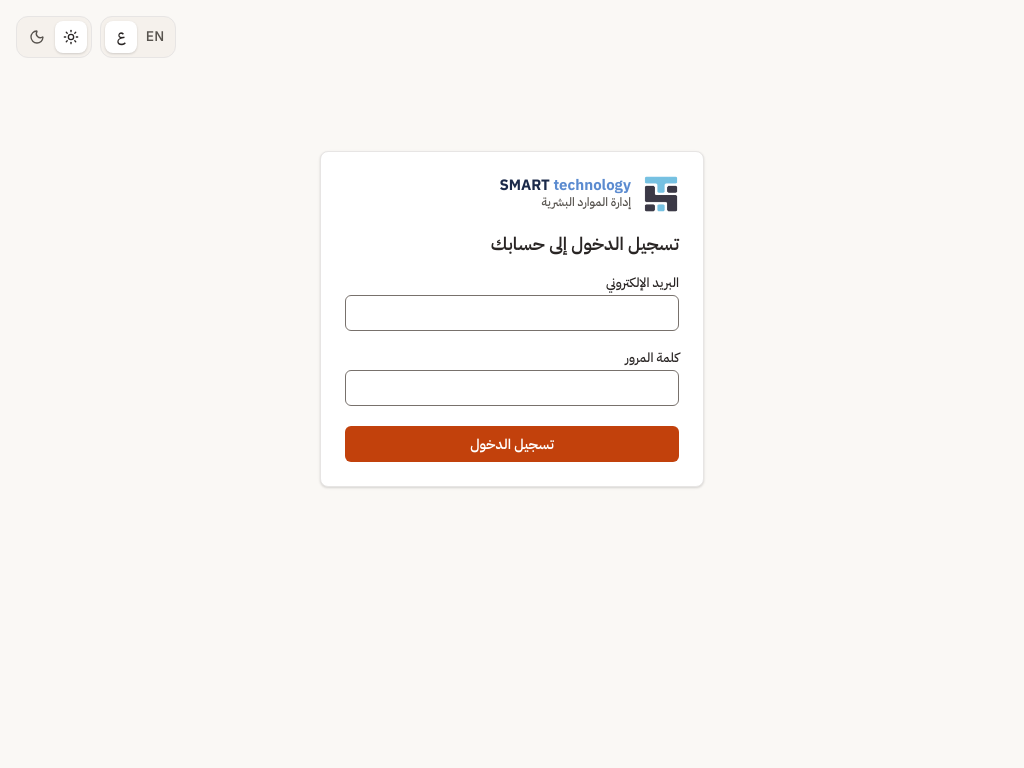
it: signs in, stores the token and opens the app
This screenshot has width=1024, height=768.
Type "hr@smart.test" into the field labelled "البريد الإلكتروني" at (512, 313), box x1=345 y1=295 x2=679 y2=331
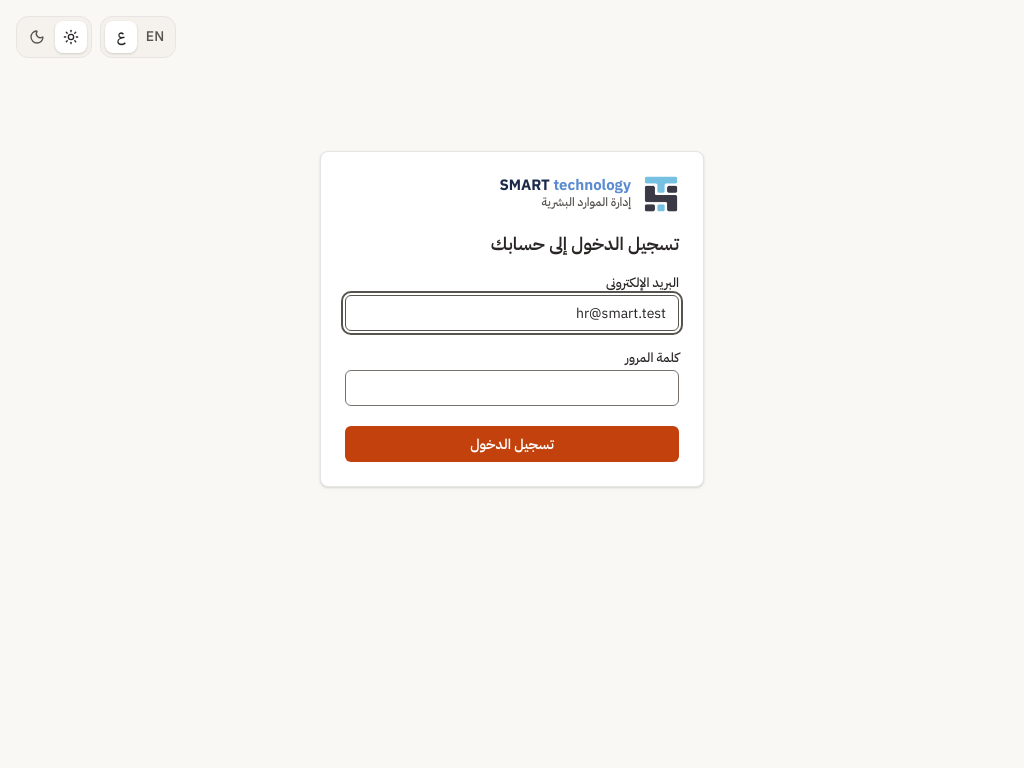
Type "secret123" into the password field labelled "كلمة المرور" at (512, 388), box x1=345 y1=370 x2=679 y2=406
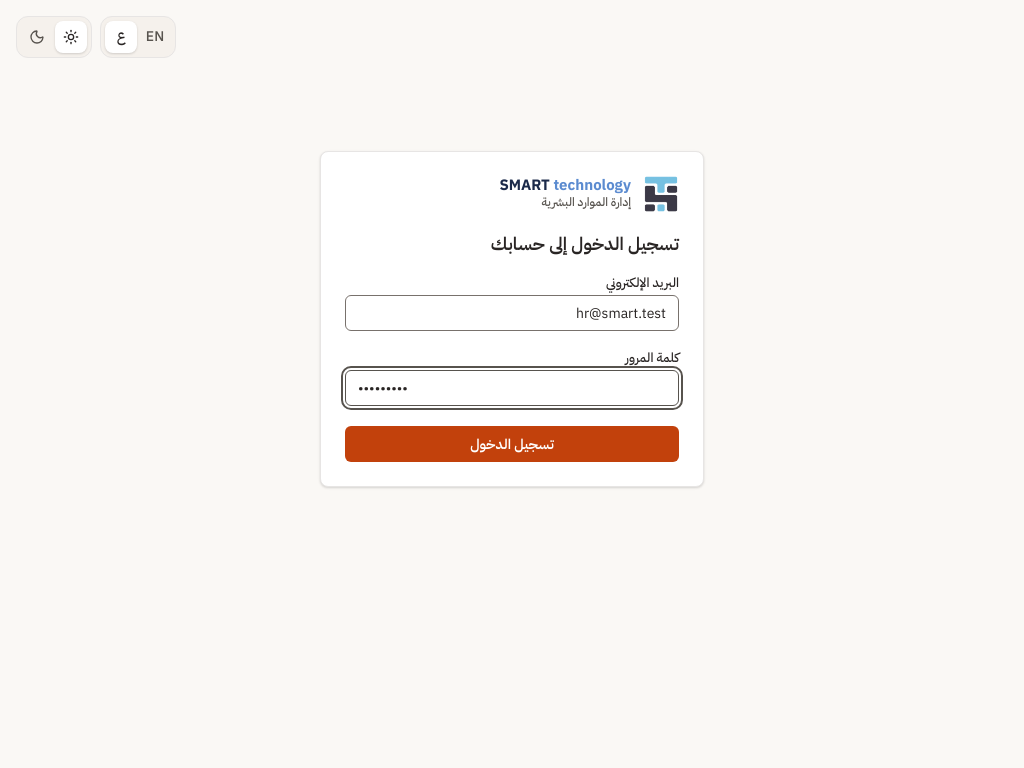
Click the button "تسجيل الدخول" at (512, 444), box x1=345 y1=426 x2=679 y2=462
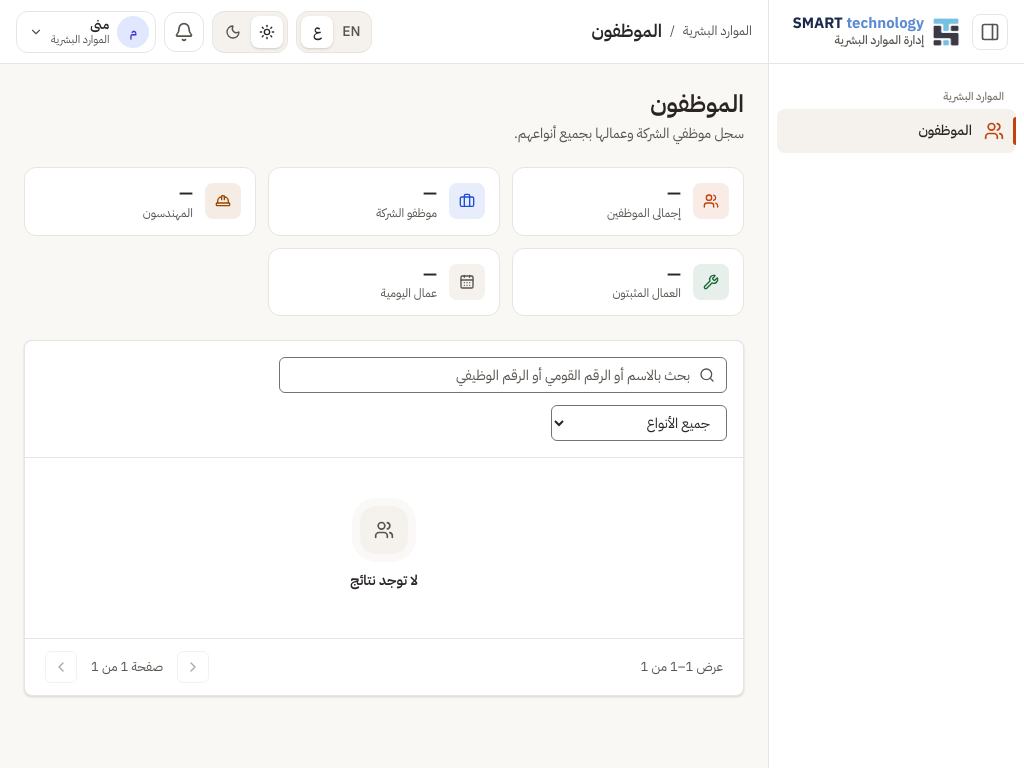
Now the link "الموظفون" is shown, box x1=777 y1=109 x2=1016 y2=153
